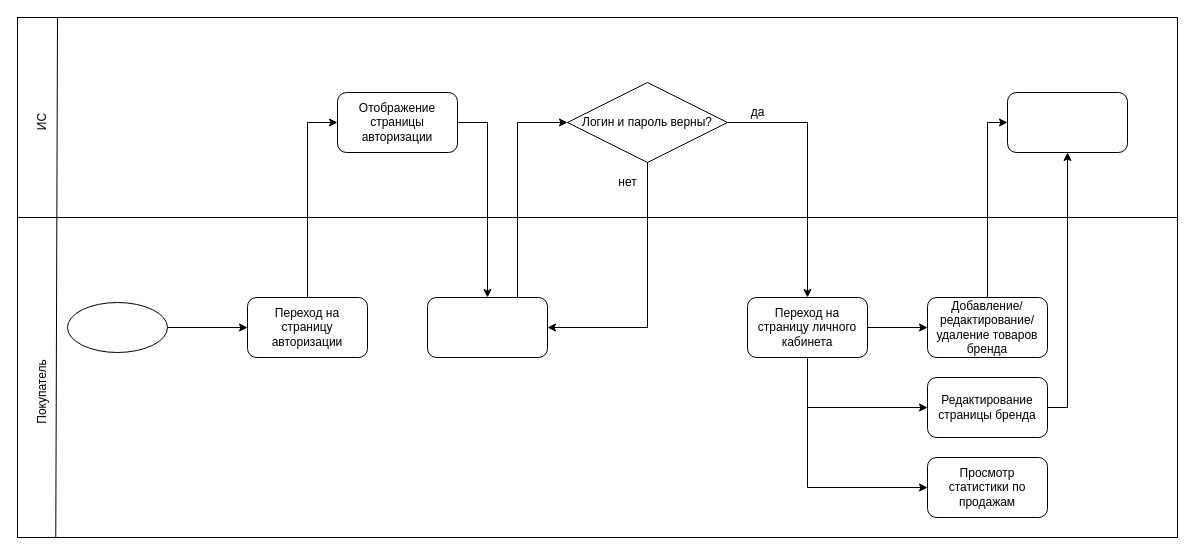
This 1196x556 diagram has some shape labels left out. Each missing label, with the centre of its shape:
Ввод логина и пароля: point 487,327
Вход на сайт: point 117,327
Обновление данных в БД: point 1067,122
